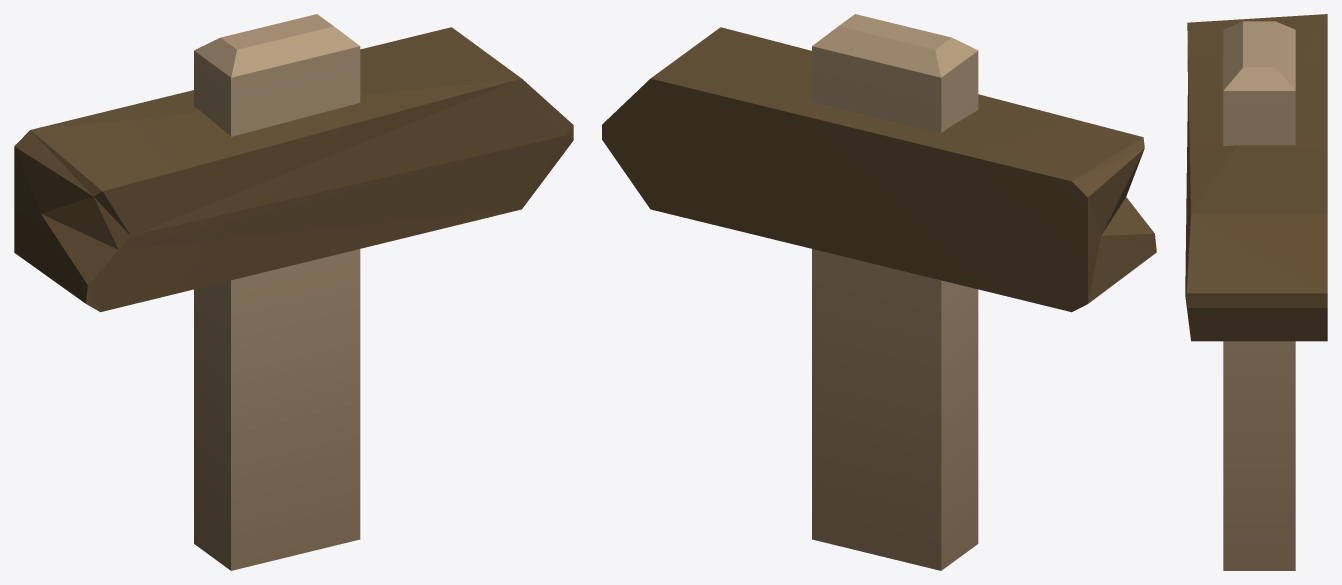
File: Signpost_short.fbx
3 views of the same model, side by side, from view 1: azimuth 30°, elevation 25°; view 2: azimuth 150°, elevation 25°; view 3: azimuth 270°, elevation 25° (orthographic). The views are drawn at different scales.
Parts seen in each view (by area): view 1: Signpost_short; view 2: Signpost_short; view 3: Signpost_short.
Boxes of the visible parts, box(x1,y1,x2,y2) form: Signpost_short: box(14, 14, 573, 570); Signpost_short: box(602, 14, 1156, 570); Signpost_short: box(1185, 14, 1327, 570).
Size of the model in its own units: 1 by 1 by 0.2604.
1 material, 1 textured.
